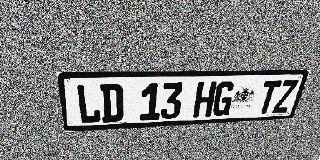1: (140, 83, 162, 120)
3: (160, 82, 184, 119)
D: (100, 84, 123, 123)
G: (211, 81, 236, 117)
H: (193, 82, 217, 118)
L: (75, 84, 101, 124)
T: (255, 80, 282, 114)
Z: (272, 80, 299, 113)
